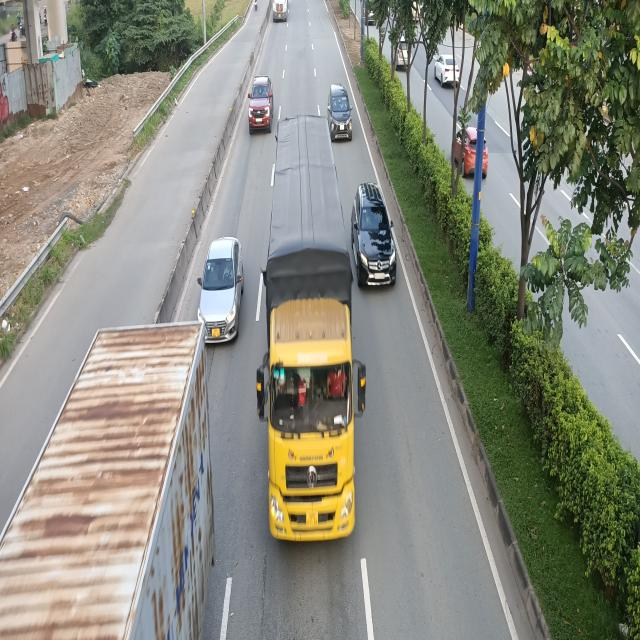car: (198, 237, 244, 346), (352, 185, 398, 292), (326, 84, 352, 142), (250, 74, 276, 132)
container: (4, 325, 225, 640), (273, 0, 290, 22)
truck: (256, 110, 367, 540)
